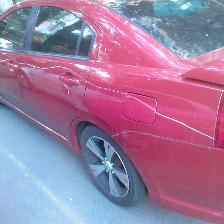door_scratch: (4, 36, 223, 162)
